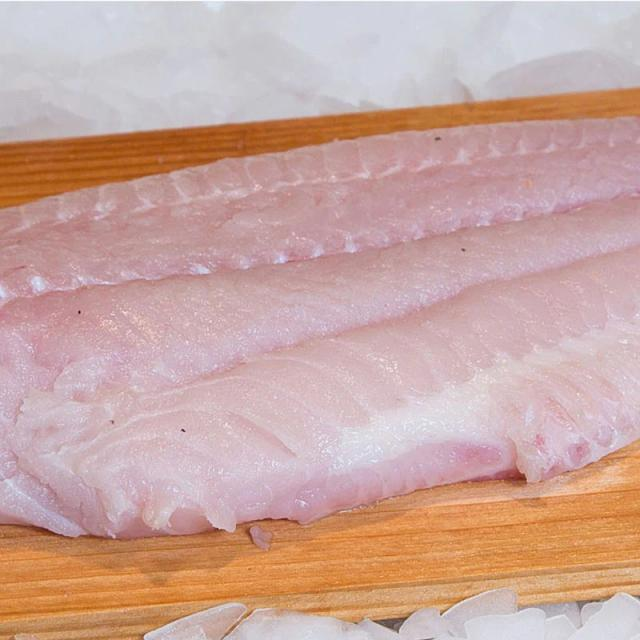Catfish: (0, 107, 640, 531)
